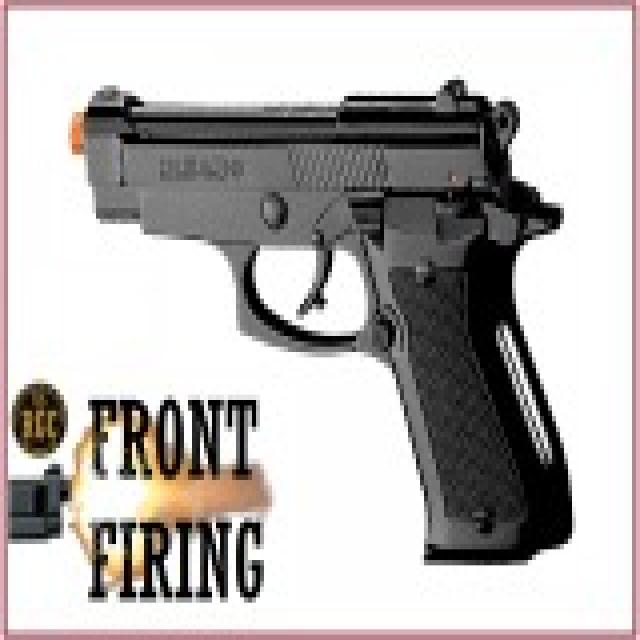Gun: (58, 55, 606, 563)
